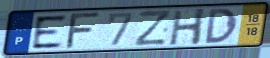7: (107, 12, 135, 48)
D: (204, 8, 239, 46)
E: (31, 14, 68, 51)
F: (63, 11, 104, 51)
H: (168, 7, 208, 47)
Z: (133, 9, 173, 48)
